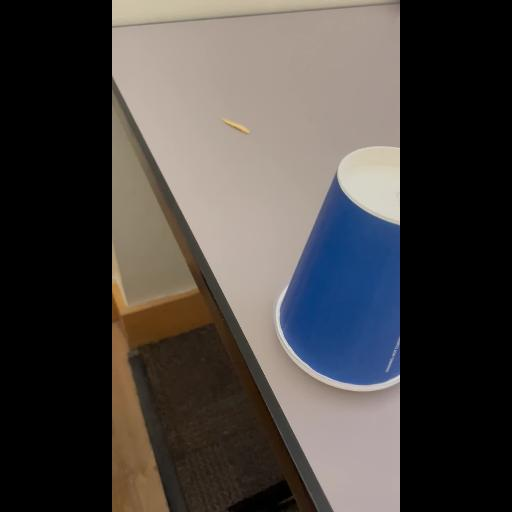lp_paper_cup: (266, 139, 400, 401)
